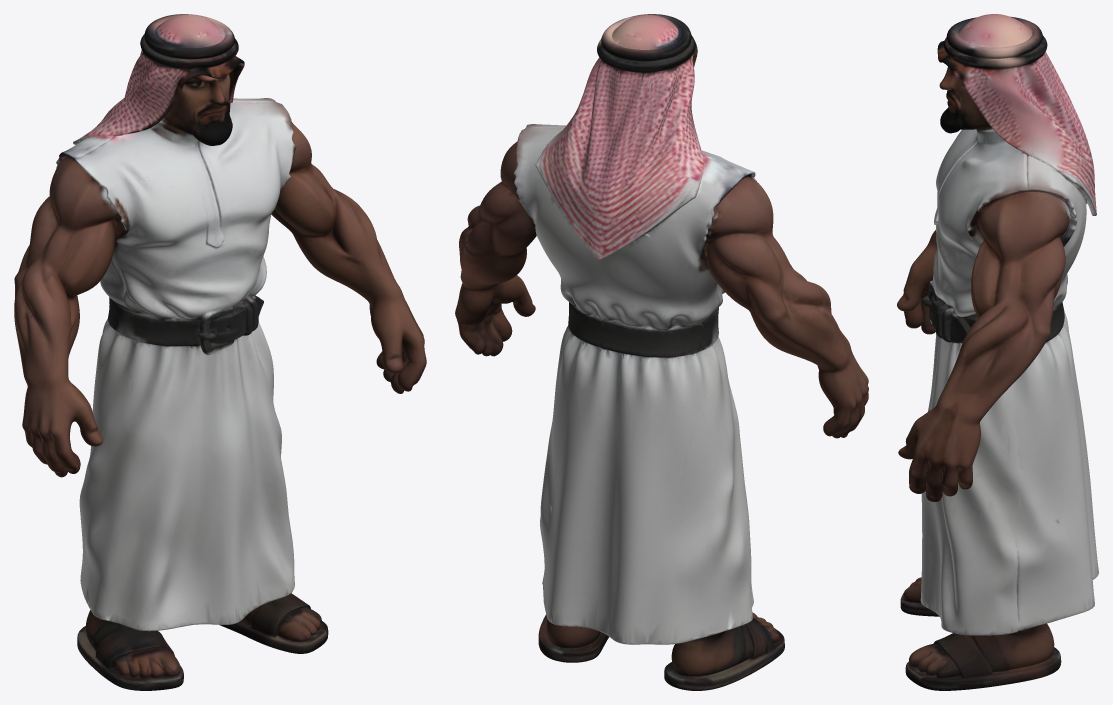
The picture shows the model from 3 angles, left to right: view 1: azimuth 30°, elevation 25°; view 2: azimuth 150°, elevation 25°; view 3: azimuth 270°, elevation 25°; orthographic projection.
Parts seen in each view (by area): view 1: node_0; view 2: node_0; view 3: node_0.
Part boxes in pixels (x1,y1,x2,y2): node_0: [14, 14, 426, 690]; node_0: [455, 14, 868, 690]; node_0: [897, 14, 1098, 690].
Bounding box in the file's own units: 1.21 × 1.85 × 0.5459.
Materials: 1 (1 with a texture image).
